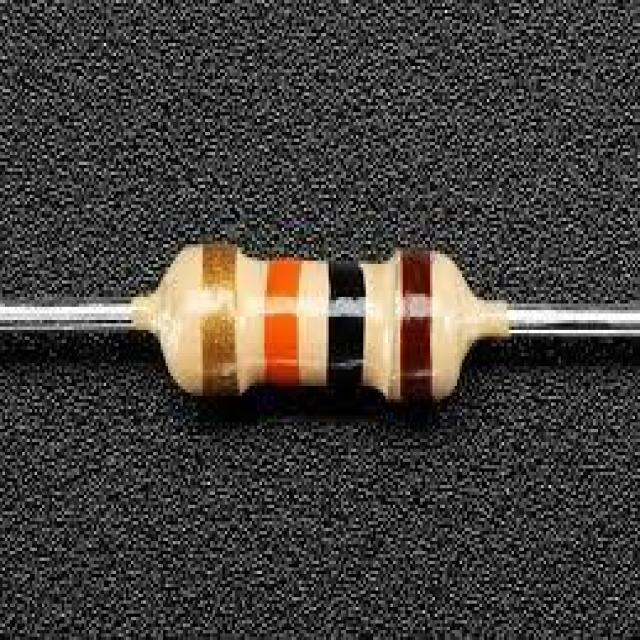Resistor: (133, 244, 507, 399)
black: (329, 261, 365, 389)
brown: (401, 251, 432, 399)
gold: (203, 245, 237, 395)
orange: (265, 261, 301, 385)
